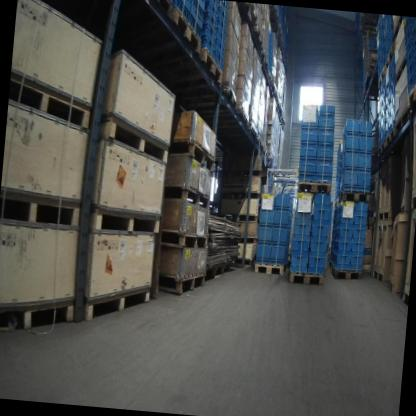pallet: (6, 67, 94, 134), (97, 111, 171, 169), (0, 185, 83, 233), (0, 290, 74, 341), (85, 277, 152, 328), (85, 204, 161, 235), (170, 5, 205, 56), (168, 137, 217, 173), (158, 266, 206, 299), (163, 184, 212, 212), (160, 229, 209, 252), (198, 46, 225, 87), (142, 0, 175, 21), (219, 187, 261, 202), (242, 3, 261, 36), (393, 104, 411, 138), (288, 271, 325, 287), (296, 179, 332, 195), (330, 265, 363, 282), (392, 56, 407, 92), (222, 166, 262, 179), (339, 189, 371, 205), (221, 211, 258, 224), (221, 87, 239, 111), (254, 262, 284, 276), (406, 72, 416, 108), (210, 263, 228, 282), (235, 109, 250, 129), (377, 65, 388, 90), (372, 265, 385, 285), (401, 282, 410, 310), (253, 29, 265, 50), (385, 44, 394, 70), (237, 234, 257, 245), (385, 126, 395, 147), (237, 257, 256, 268), (377, 208, 390, 224), (377, 142, 387, 159), (410, 184, 416, 210), (388, 274, 395, 295), (399, 200, 406, 216), (334, 195, 339, 211), (230, 260, 238, 269)
small_load_carrier: (187, 0, 203, 39), (173, 0, 194, 28), (198, 24, 217, 52), (331, 250, 354, 270), (199, 12, 218, 36), (307, 252, 326, 275), (301, 106, 319, 130), (317, 112, 338, 132), (334, 205, 355, 225), (290, 250, 307, 274), (271, 225, 290, 246), (356, 170, 375, 191), (309, 233, 327, 255), (405, 41, 416, 76), (295, 199, 313, 220), (341, 152, 359, 173), (299, 129, 319, 147), (332, 234, 352, 252), (406, 27, 416, 62), (404, 19, 416, 48), (270, 244, 288, 263), (342, 135, 360, 154), (343, 118, 361, 137), (314, 162, 332, 181), (313, 202, 330, 222), (258, 225, 274, 246), (274, 208, 291, 227), (341, 173, 358, 192), (260, 191, 276, 211), (318, 131, 336, 148), (299, 162, 316, 180), (300, 146, 318, 163), (357, 135, 373, 154), (407, 61, 416, 94), (276, 192, 293, 209), (292, 234, 309, 251), (256, 245, 272, 262), (310, 220, 328, 235), (359, 118, 373, 137), (358, 152, 372, 171), (333, 223, 353, 236), (259, 210, 275, 226), (348, 252, 364, 268), (349, 238, 365, 253), (318, 148, 333, 163), (294, 221, 310, 235), (215, 41, 226, 61), (319, 102, 336, 114), (215, 30, 227, 44), (355, 213, 365, 228), (354, 227, 366, 239), (355, 201, 366, 214)
